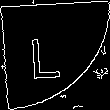L_N: (37, 29, 73, 81)
